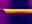Hotspot: (3, 9, 31, 13)
